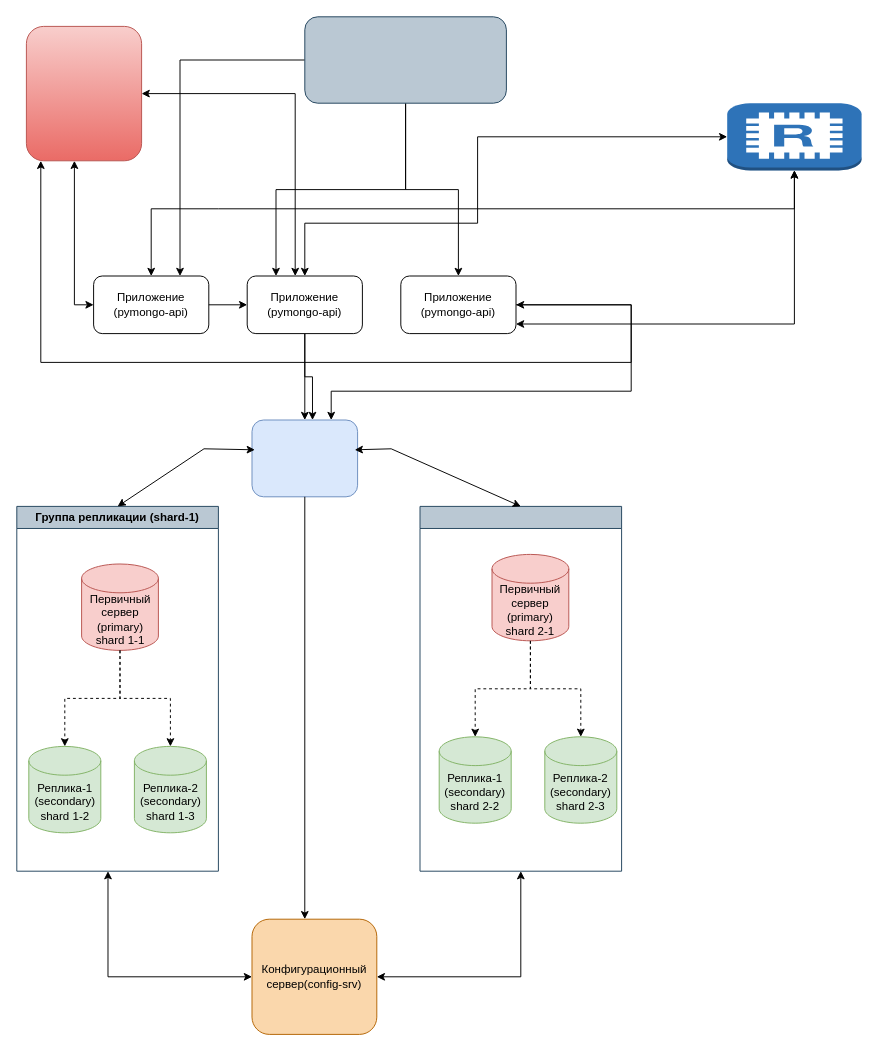
This 878x1051 diagram has some shape labels left out. Here are the shapes that lost their labels. From the top down, the box of each, then its label:
(304, 16, 506, 103): Шлюз (api-gateway)
(25, 25, 142, 161): Балансировка нагрузки (Service Discovery)
(726, 102, 862, 170): Redis
(251, 419, 358, 497): Роутер (mongos-router)
(419, 505, 622, 871): Группа репликации (shard-2)
